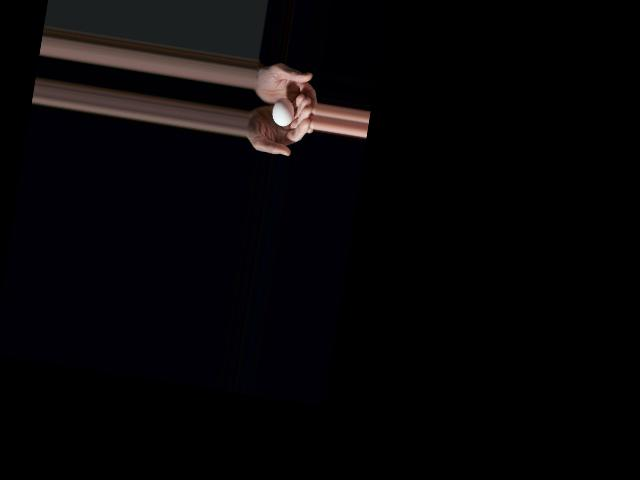egg: (270, 96, 296, 128)
